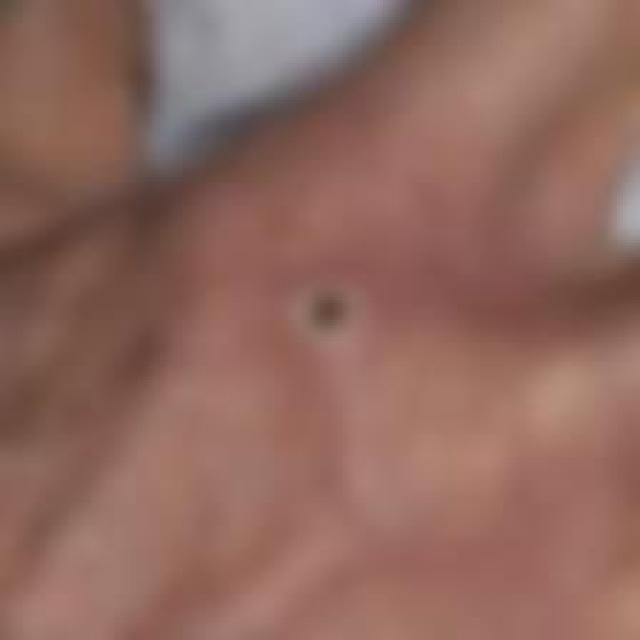monkeypox: (137, 194, 495, 479)
